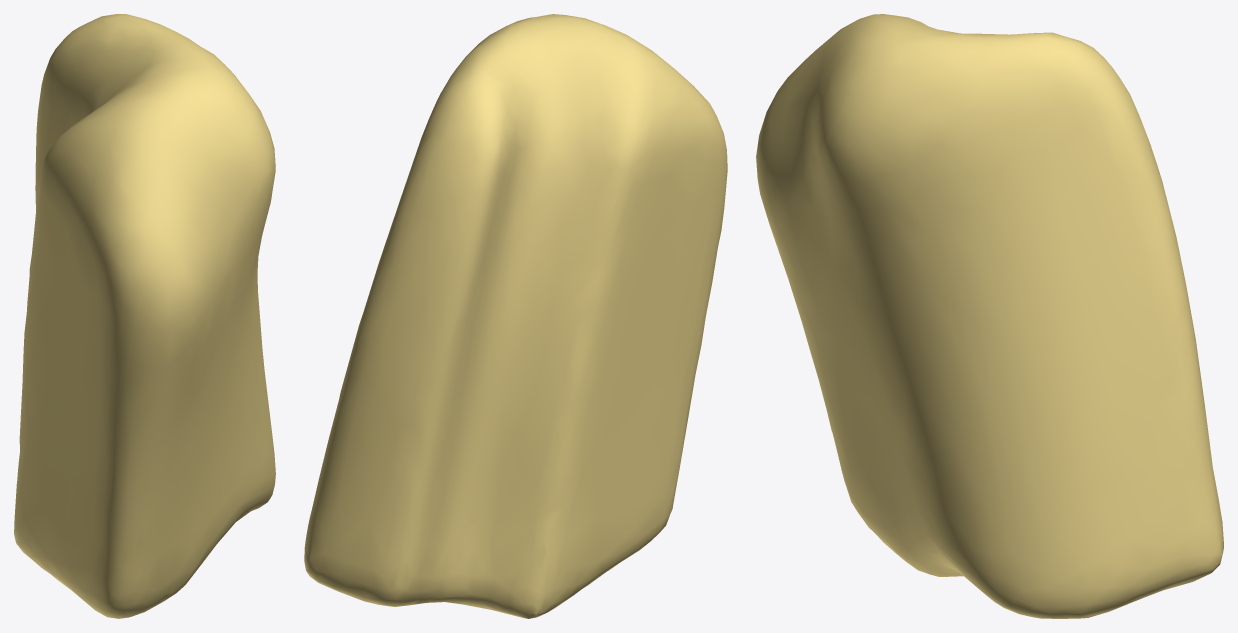
Rendered from fma74507-r_mm3538m.glb.
3 views of the same model, side by side, from view 1: azimuth 30°, elevation 25°; view 2: azimuth 150°, elevation 25°; view 3: azimuth 270°, elevation 25° (orthographic). The views are drawn at different scales.
Parts seen in each view (by area): view 1: FMA74507-R_MM3538M; view 2: FMA74507-R_MM3538M; view 3: FMA74507-R_MM3538M.
Part boxes in pixels (x1,y1,x2,y2): FMA74507-R_MM3538M: (14, 14, 275, 618); FMA74507-R_MM3538M: (304, 14, 727, 618); FMA74507-R_MM3538M: (756, 14, 1223, 618).
Size of the model in its own units: 0.00256 by 0.00477 by 0.00368.
